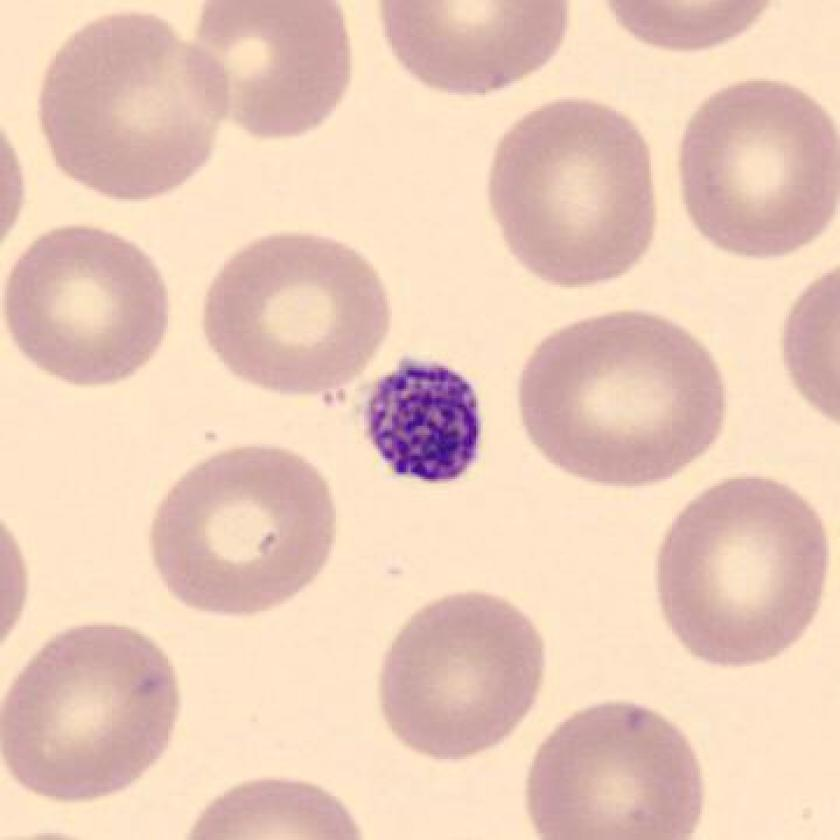platelets: (356, 348, 491, 494)
